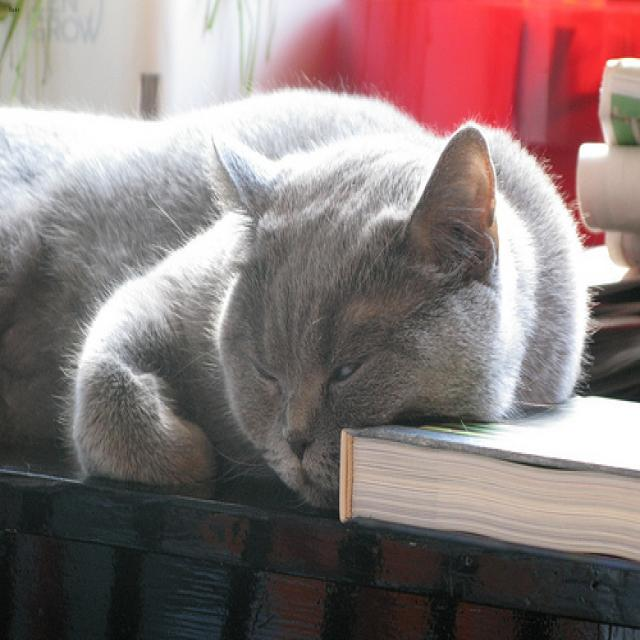cat: (210, 121, 498, 507)
